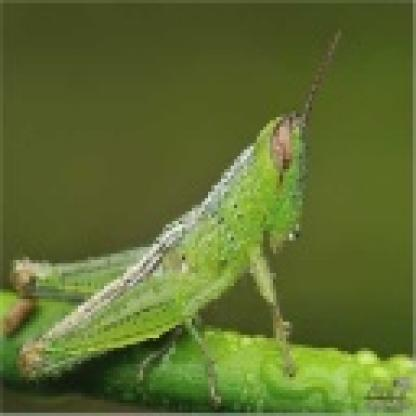grasshopper: (4, 22, 338, 416)
